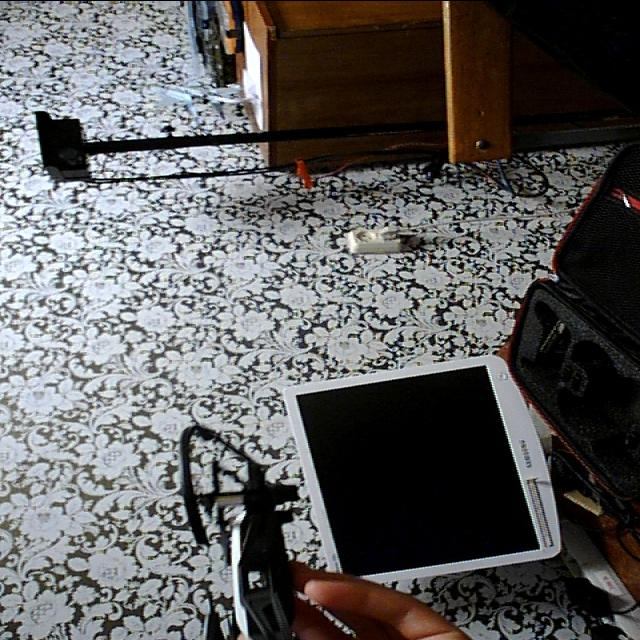drone: (155, 412, 329, 640)
